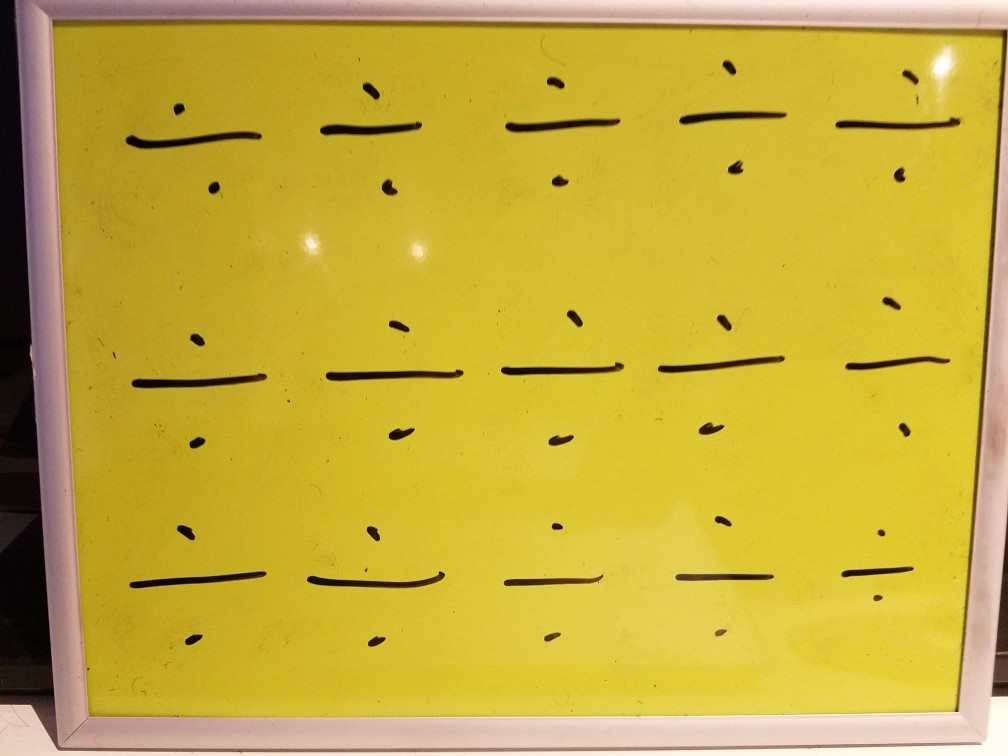div: (310, 288, 473, 462), (810, 270, 959, 457), (115, 504, 287, 660), (118, 301, 276, 469), (647, 491, 793, 669), (487, 286, 632, 465), (644, 288, 792, 462), (113, 69, 280, 222), (300, 503, 450, 666), (483, 495, 618, 664), (823, 48, 970, 188), (307, 68, 442, 209), (483, 56, 624, 191), (662, 42, 789, 185), (803, 506, 935, 624)
